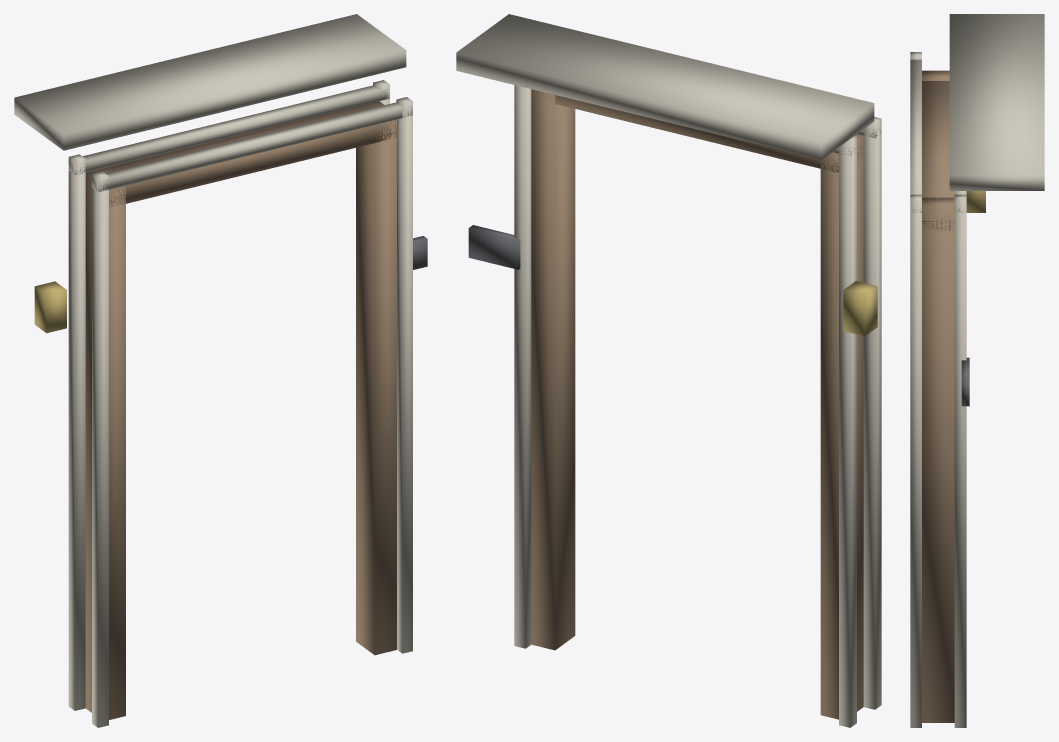
Rendered from doorway_motel_w122_h240_d16.glb.
3 renders of one model, left to right at view 1: azimuth 30°, elevation 25°; view 2: azimuth 150°, elevation 25°; view 3: azimuth 270°, elevation 25°, orthographic. The views are drawn at different scales.
Parts seen in each view (by area): view 1: world; view 2: world; view 3: world.
Boxes of the visible parts, x1,y1,x2,y2 form: world: (14,14,427,727); world: (456,14,881,727); world: (910,14,1044,727).
Size of the model in its own units: 1.86 by 2.73 by 0.5948.
